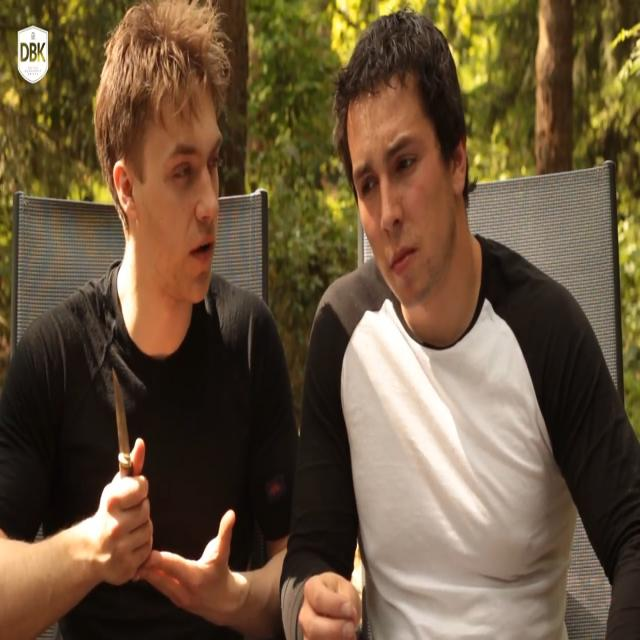knife: (112, 361, 137, 473)
